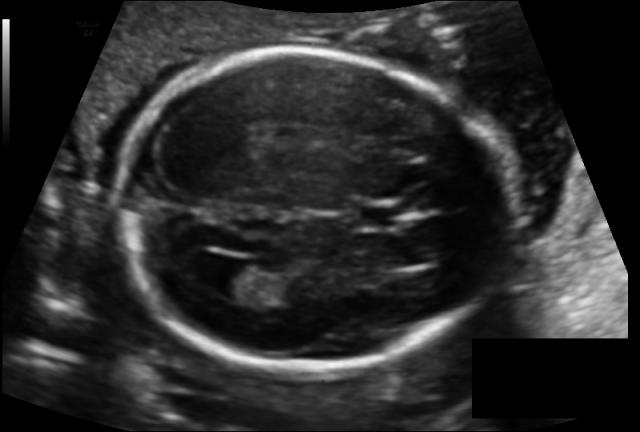CHOROID_PLEXUS: (214, 255, 314, 314)
CSP: (377, 184, 477, 247)
MIDLINE_FALX: (122, 170, 510, 254)
